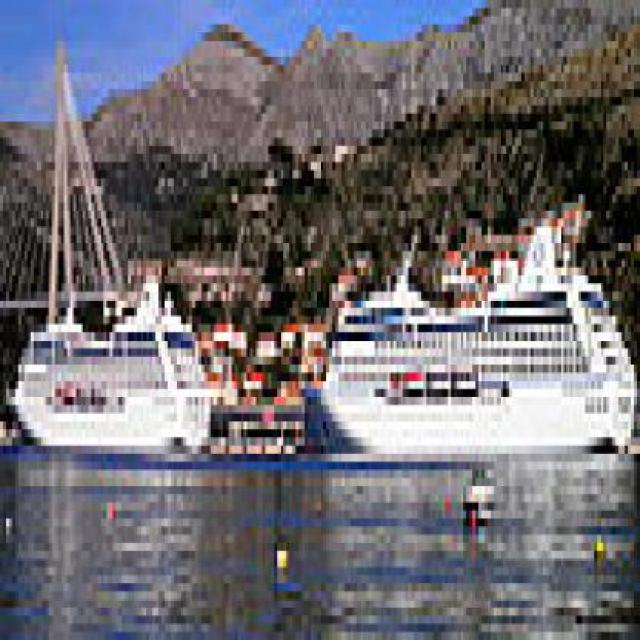cruise: (299, 187, 638, 487), (7, 253, 221, 471)
